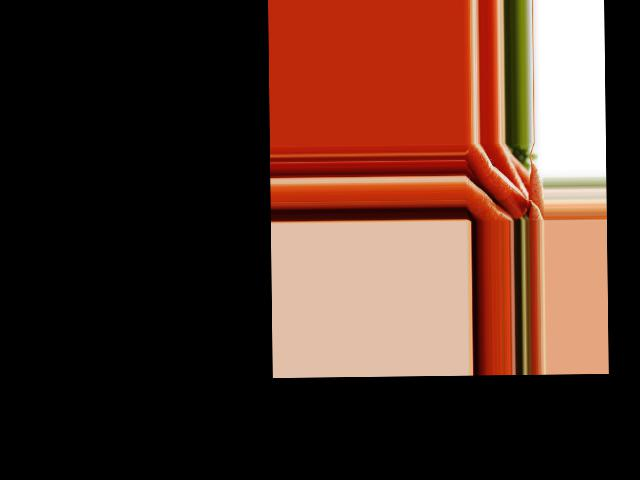carrot: (490, 150, 533, 202)
